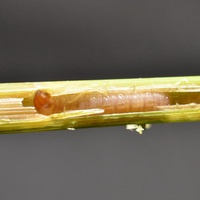insect: (0, 76, 199, 132)
